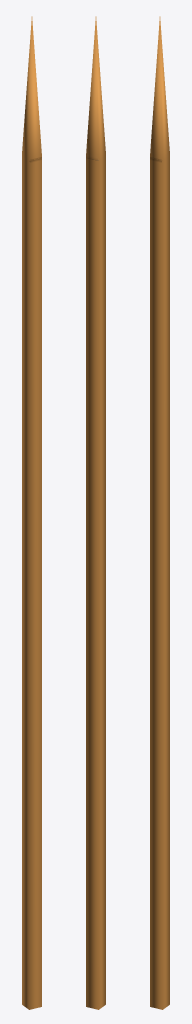
Rendered from bbq stick.fbx.
The picture shows the model from 3 angles, left to right: view 1: azimuth 30°, elevation 25°; view 2: azimuth 150°, elevation 25°; view 3: azimuth 330°, elevation 25°; orthographic projection.
Parts seen in each view (by area): view 1: bbq stick; view 2: bbq stick; view 3: bbq stick.
Part boxes in pixels (left/top/right/bottom): bbq stick: left=22, top=16, right=41, bottom=1009; bbq stick: left=86, top=16, right=105, bottom=1009; bbq stick: left=150, top=16, right=169, bottom=1009.
Size of the model in its own units: 2.47 by 182 by 2.47.
1 material, 1 textured.
